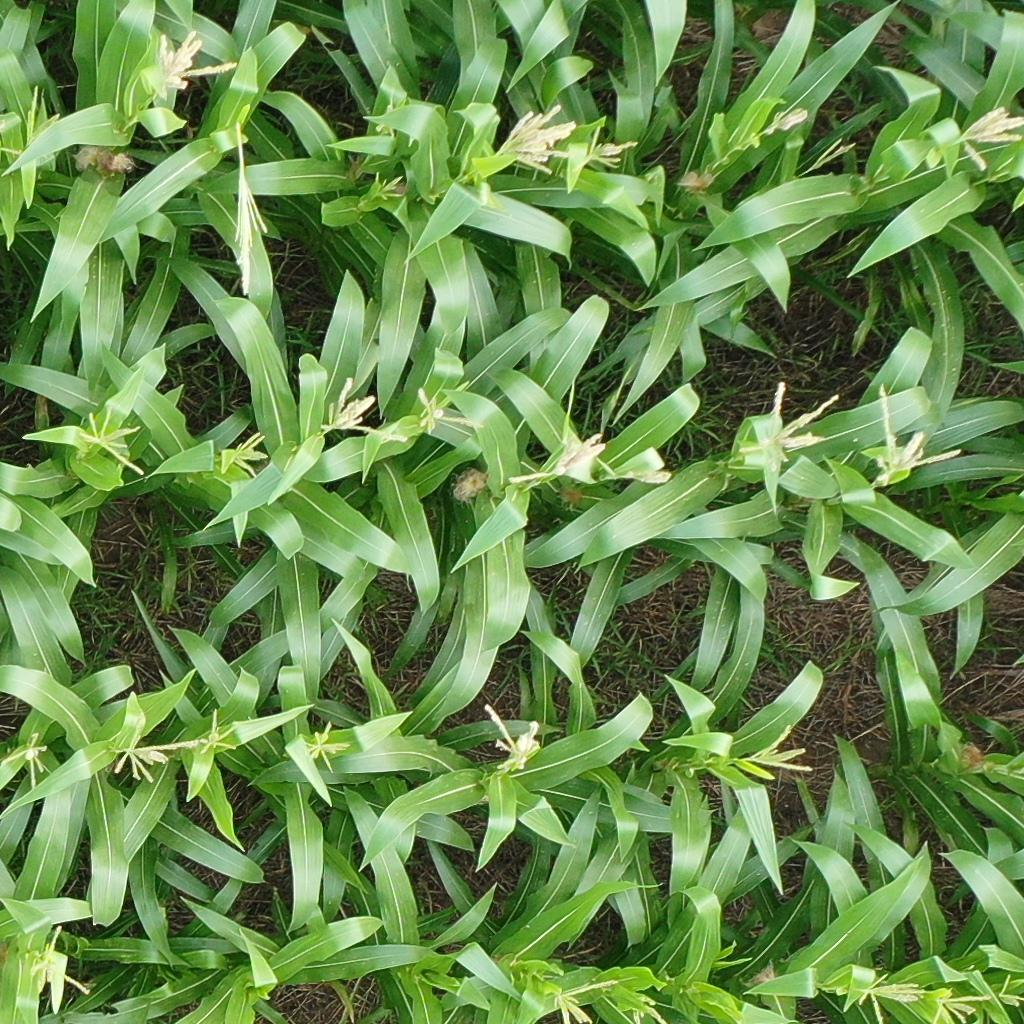Tassel: (866, 384, 962, 494), (506, 384, 608, 487), (740, 382, 842, 481), (312, 378, 409, 446), (491, 105, 577, 177), (112, 718, 200, 787), (156, 30, 238, 99), (76, 406, 148, 478), (28, 924, 93, 998), (954, 105, 1024, 173), (234, 172, 270, 302), (1, 84, 61, 158), (412, 386, 487, 442), (485, 704, 543, 776), (572, 119, 641, 172), (855, 972, 925, 1024), (746, 724, 812, 777), (547, 977, 618, 1024), (1, 734, 53, 790), (301, 720, 351, 775), (801, 139, 858, 177), (230, 430, 272, 479), (200, 708, 241, 756), (932, 993, 990, 1024), (761, 104, 809, 137), (628, 993, 669, 1024), (609, 467, 670, 487), (996, 973, 1024, 1009), (373, 172, 405, 201)
